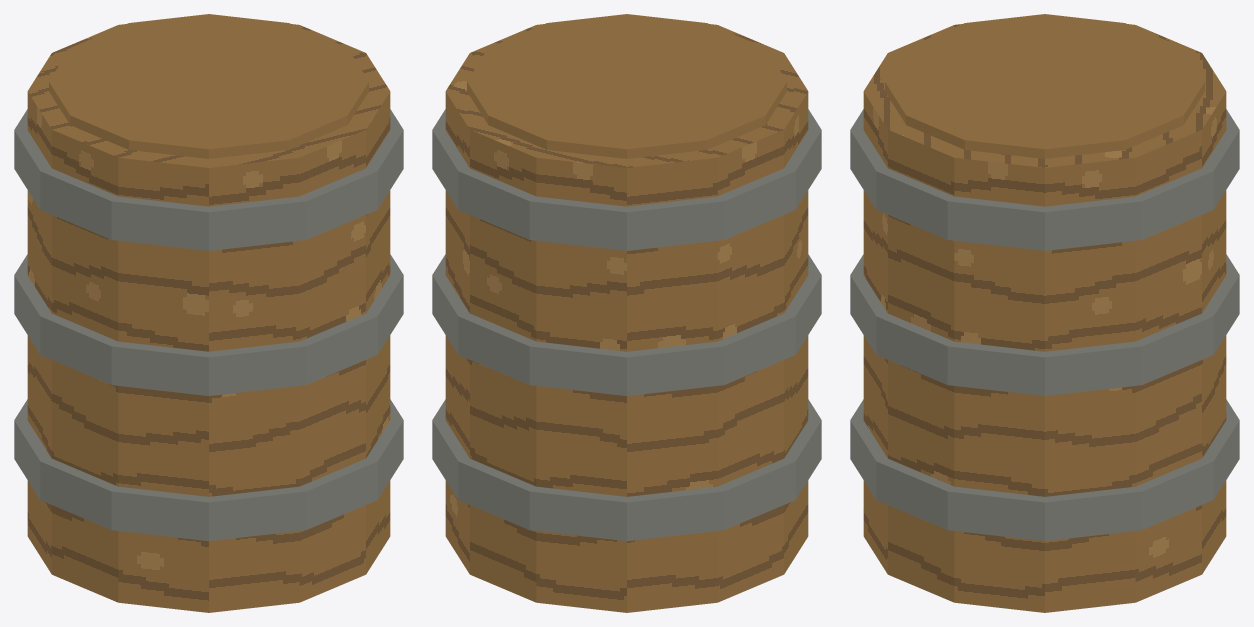
The model's file is barrel.glb.
The picture shows the model from 3 angles, left to right: view 1: azimuth 30°, elevation 25°; view 2: azimuth 150°, elevation 25°; view 3: azimuth 270°, elevation 25°; orthographic projection.
Visible parts, largest first — view 1: Barrel; view 2: Barrel; view 3: Barrel.
Part boxes in pixels (<box>): Barrel: <box>14,14,403,612</box>; Barrel: <box>432,14,821,612</box>; Barrel: <box>850,14,1239,612</box>.
Size of the model in its own units: 0.73 by 0.94 by 0.73.
1 material, 1 textured.
